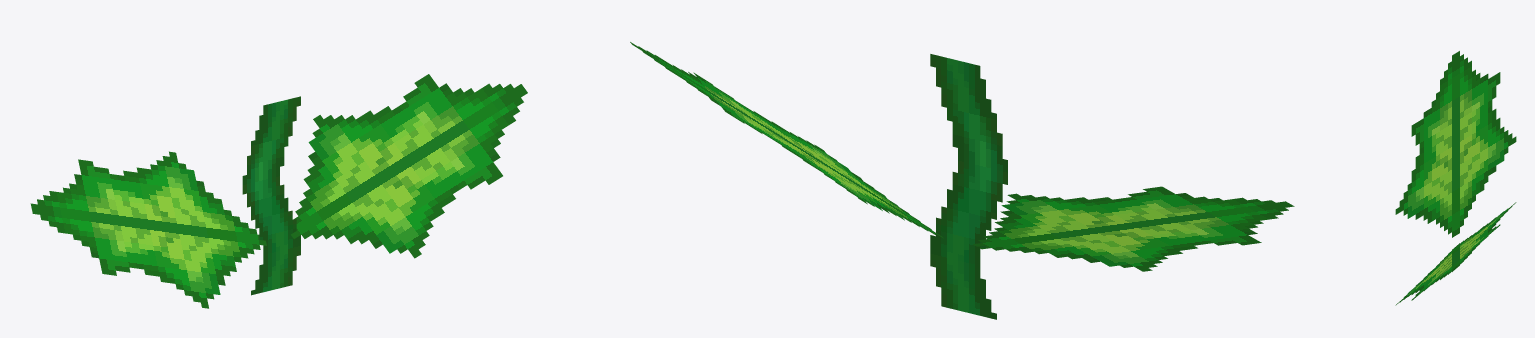
File: mario_course-PakkunBody.glb
The picture shows the model from 3 angles, left to right: view 1: azimuth 30°, elevation 25°; view 2: azimuth 150°, elevation 25°; view 3: azimuth 270°, elevation 25°; orthographic projection. The views are drawn at different scales.
Visible parts, largest first — view 1: PakkunBody; view 2: PakkunBody; view 3: PakkunBody.
Boxes of the visible parts, left/top/right/bottom form: PakkunBody: left=30, top=74, right=527, bottom=308; PakkunBody: left=630, top=42, right=1294, bottom=319; PakkunBody: left=1395, top=51, right=1516, bottom=305.
Size of the model in its own units: 7.97 by 2.79 by 1.88.
1 material, 1 textured.
